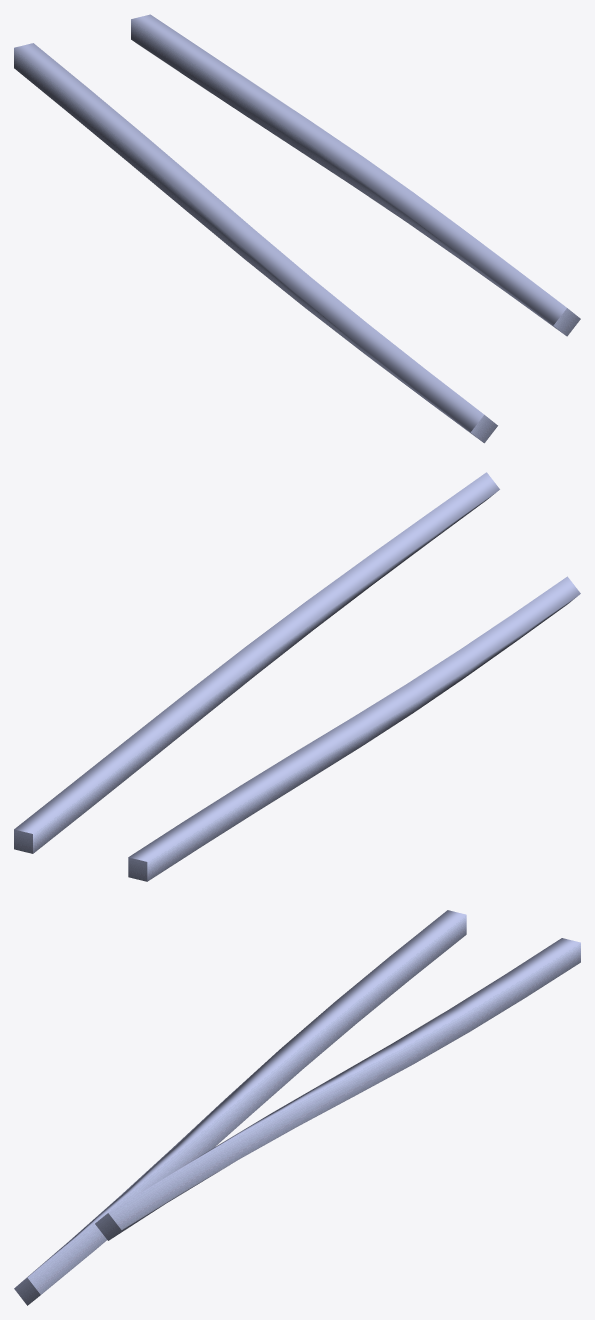
Rendered from railroad-rail-straight-skew-right.glb.
3 views of the same model, one above another, from view 1: azimuth 30°, elevation 25°; view 2: azimuth 150°, elevation 25°; view 3: azimuth 330°, elevation 25° (orthographic). The views are drawn at different scales.
Visible parts, largest first — view 1: railroad-rail-straight-skew-right; view 2: railroad-rail-straight-skew-right; view 3: railroad-rail-straight-skew-right.
Part boxes in pixels (x1,y1,x2,y2): railroad-rail-straight-skew-right: [14, 14, 580, 443]; railroad-rail-straight-skew-right: [14, 472, 580, 881]; railroad-rail-straight-skew-right: [14, 910, 580, 1305].
Size of the model in its own units: 0.714 by 0.5657 by 4.
1 material, 1 textured.
